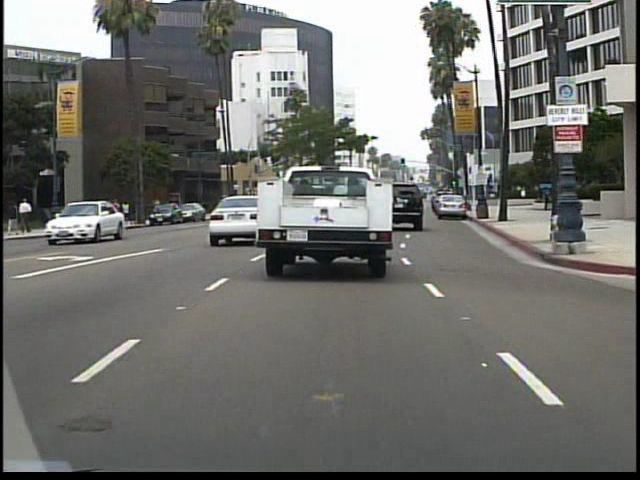person: (20, 196, 36, 234), (72, 198, 89, 232), (8, 198, 22, 237), (542, 183, 551, 214)
